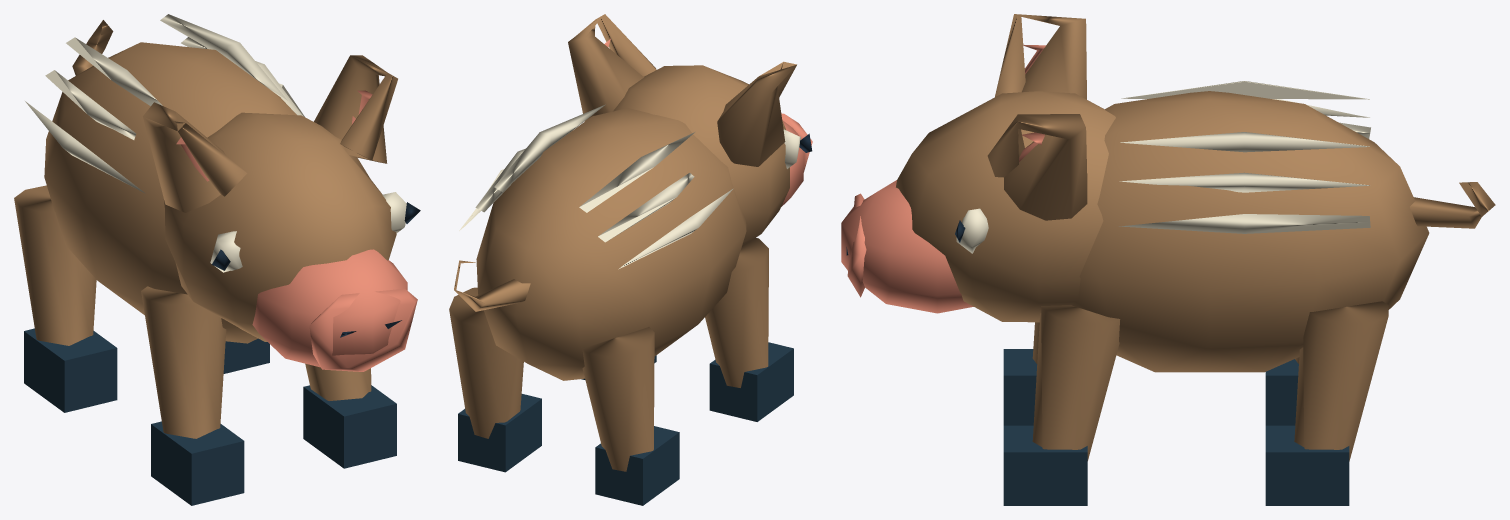
File: boar-striped-lod2.glb
3 views of the same model, side by side, from view 1: azimuth 30°, elevation 25°; view 2: azimuth 150°, elevation 25°; view 3: azimuth 270°, elevation 25° (orthographic). The views are drawn at different scales.
Parts seen in each view (by area): view 1: asset_root; view 2: asset_root; view 3: asset_root.
Part boxes in pixels (x1,y1,x2,y2): asset_root: [14, 14, 420, 505]; asset_root: [449, 14, 812, 505]; asset_root: [841, 14, 1495, 505].
Bounding box in the file's own units: 0.7863 × 1.23 × 1.88.
Materials: 1 (1 with a texture image).
